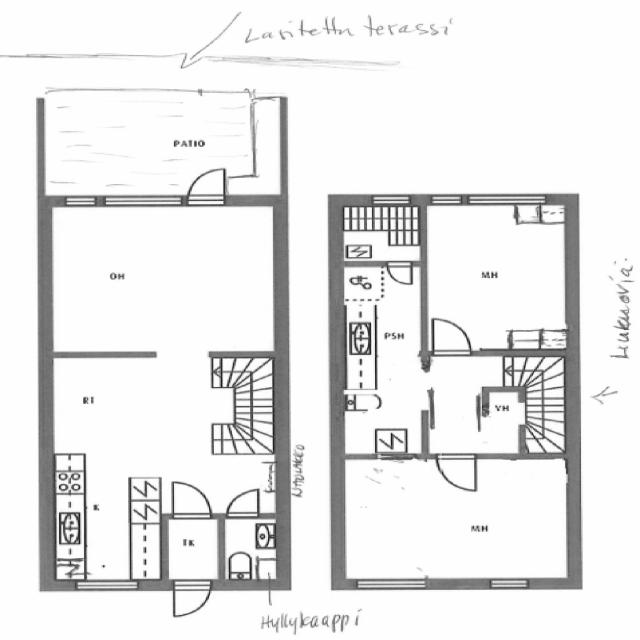door: (338, 454, 575, 581), (163, 479, 217, 520), (428, 315, 478, 358), (183, 164, 232, 205), (168, 579, 215, 621), (435, 452, 480, 494), (221, 485, 266, 521), (383, 259, 417, 288)
window: (63, 192, 190, 210), (452, 192, 556, 208), (351, 576, 432, 592), (72, 578, 141, 594), (482, 576, 536, 592), (152, 350, 218, 363), (59, 193, 106, 209), (195, 85, 251, 98), (428, 193, 470, 207), (370, 194, 412, 207)
zone: (48, 353, 283, 587), (48, 200, 279, 356), (341, 455, 573, 583), (38, 96, 286, 198), (424, 203, 573, 353), (340, 262, 426, 454), (428, 354, 572, 458), (338, 201, 424, 264), (222, 515, 282, 584)
